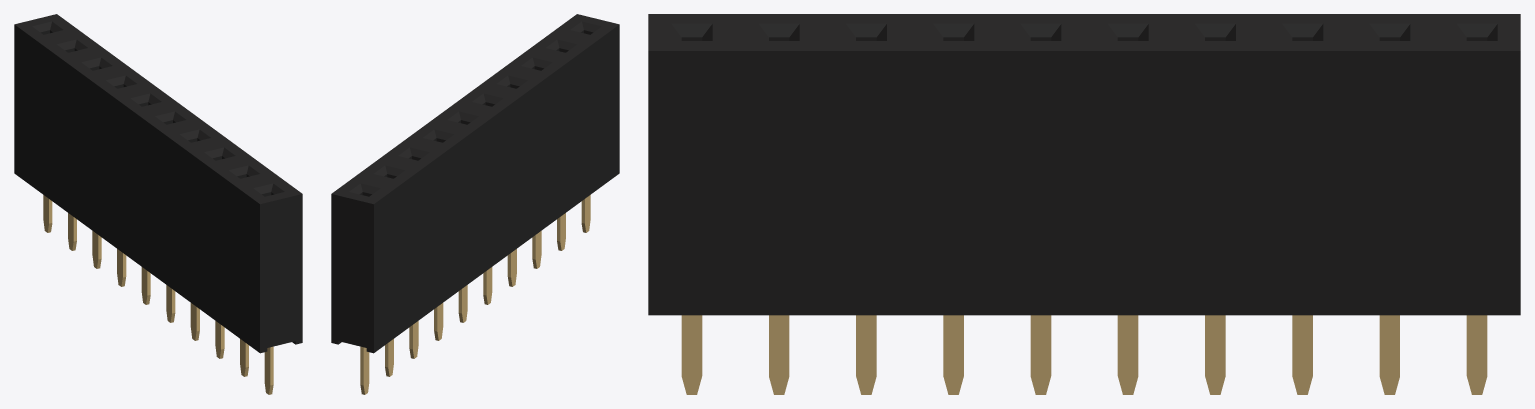
Rendered from PinSocket_1x10_P2.54mm_Vertical.glb.
3 renders of one model, left to right at view 1: azimuth 30°, elevation 25°; view 2: azimuth 150°, elevation 25°; view 3: azimuth 270°, elevation 25°, orthographic. The views are drawn at different scales.
Parts seen in each view (by area): view 1: =>[0:1:1:3]; view 2: =>[0:1:1:3]; view 3: =>[0:1:1:3].
Boxes of the visible parts, x1,y1,x2,y2 form: =>[0:1:1:3]: (14,14,302,394); =>[0:1:1:3]: (331,14,619,394); =>[0:1:1:3]: (648,14,1520,394).
Bounding box in the file's own units: 0.00254 × 0.0116 × 0.0254.
